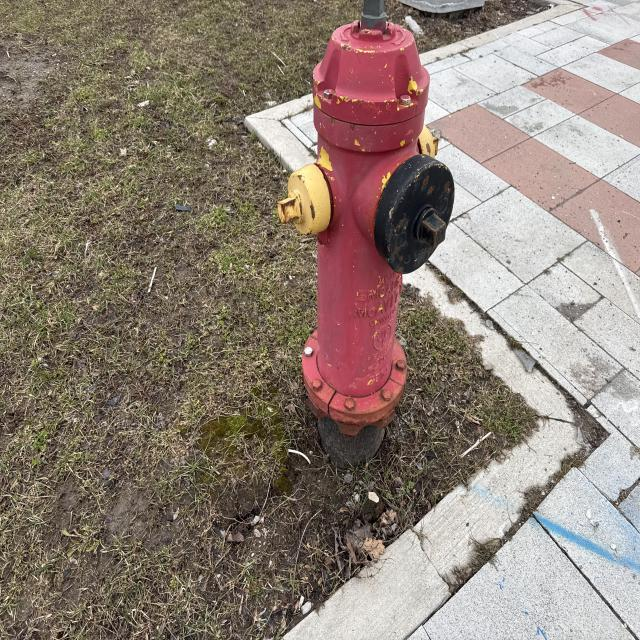Fire hydrant: (275, 1, 455, 438)
